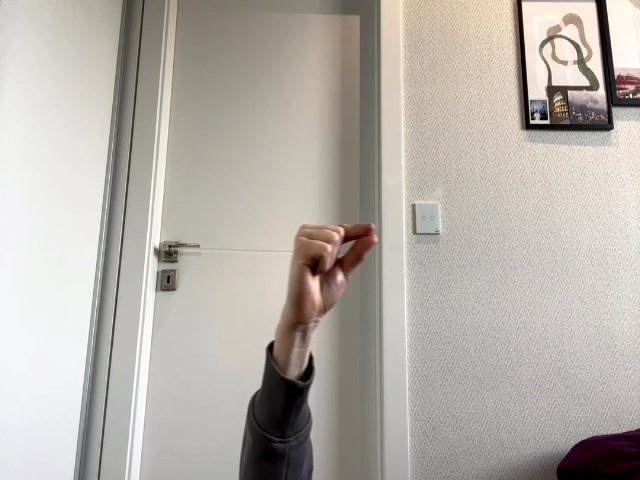P: (284, 224, 378, 334)
